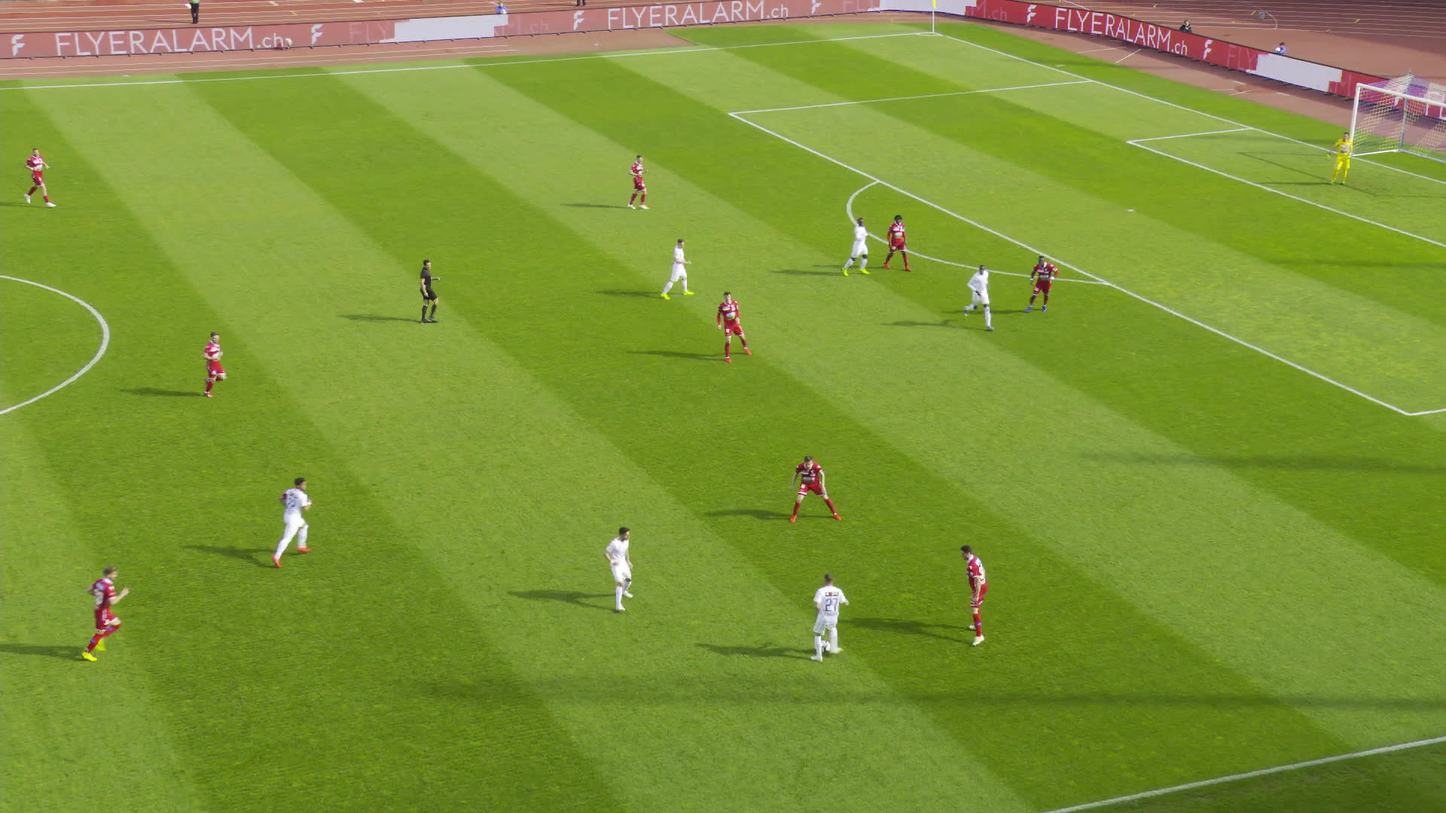ball: (809, 637, 820, 650)
player: (73, 564, 128, 661), (267, 476, 316, 565), (812, 571, 852, 663), (789, 454, 840, 522), (960, 544, 991, 644), (715, 288, 752, 363), (604, 522, 633, 607), (20, 147, 56, 209), (836, 217, 873, 276), (197, 328, 227, 397), (1026, 254, 1057, 314), (661, 238, 691, 299), (962, 266, 990, 330), (621, 154, 651, 209), (882, 215, 910, 271), (1325, 131, 1352, 184)
referee: (410, 257, 447, 323)
